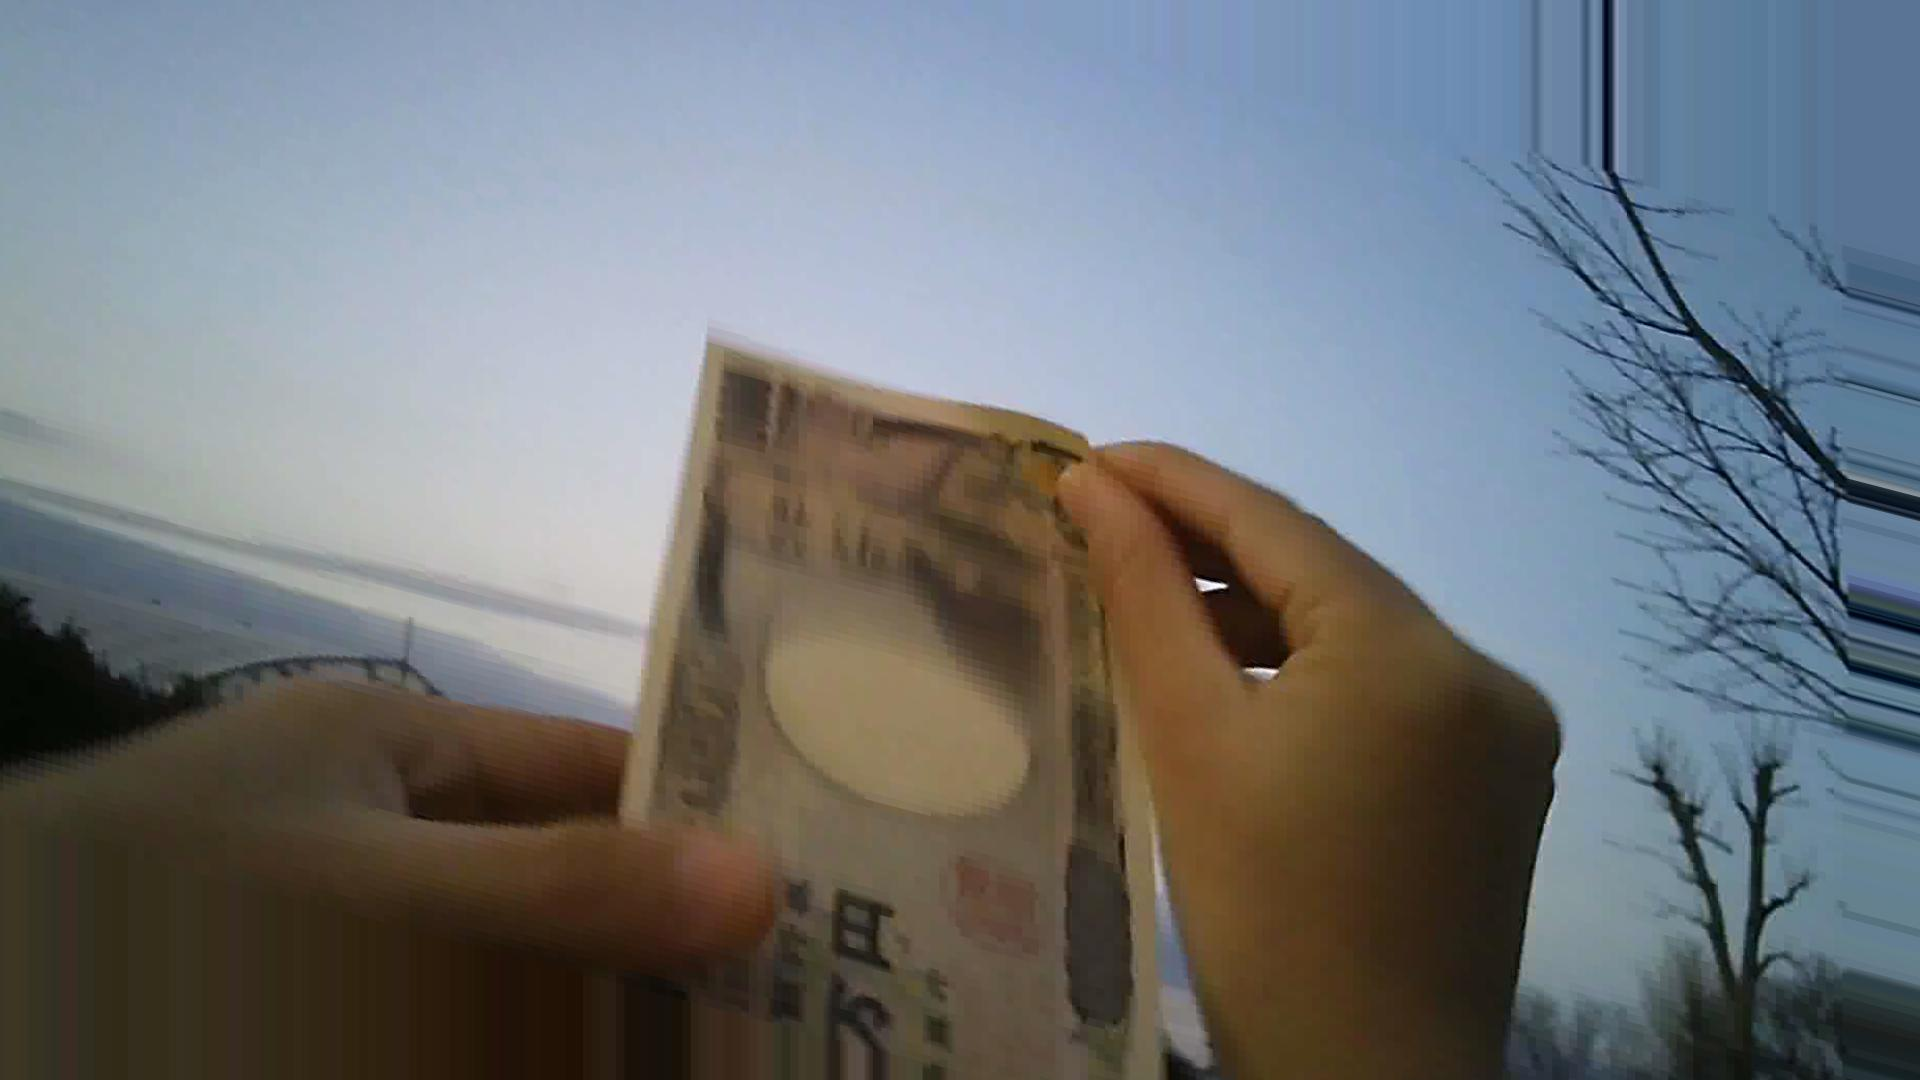10,000 Yen: (521, 331, 1193, 1079)
